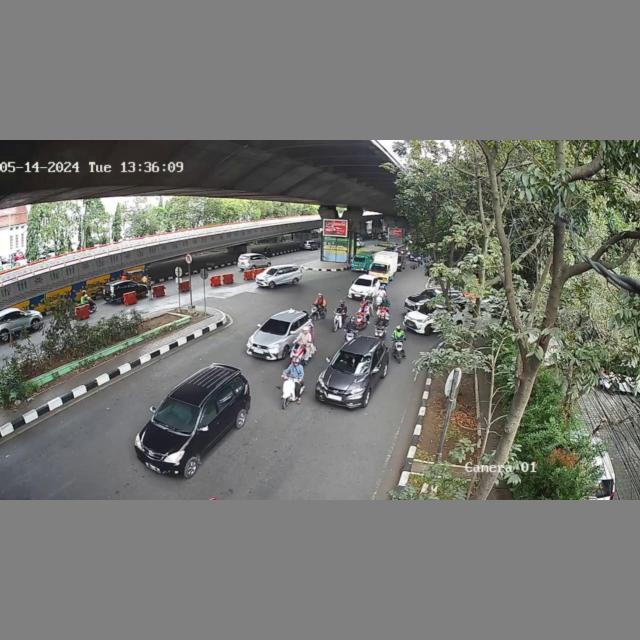windshield: (156, 397, 200, 430), (329, 348, 373, 374), (261, 317, 290, 336)
